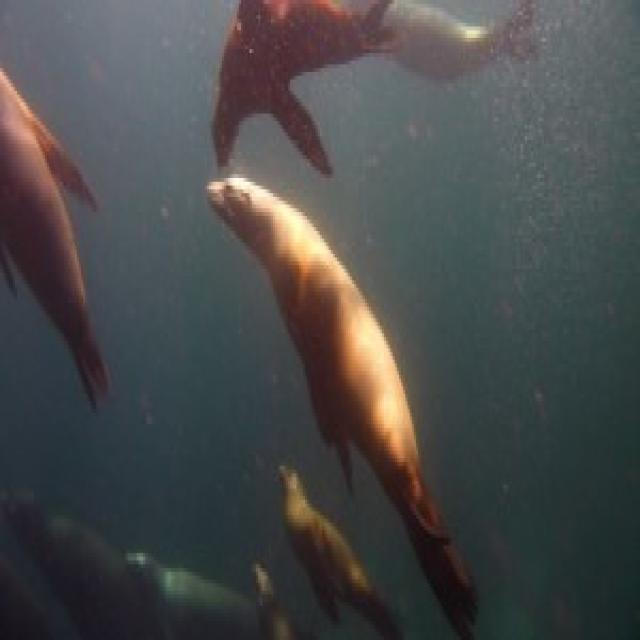Seal: (204, 167, 479, 451), (0, 49, 111, 413), (269, 461, 381, 606)
